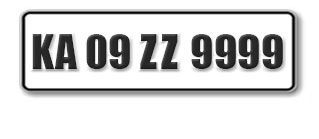number_plate: (19, 8, 297, 94)
